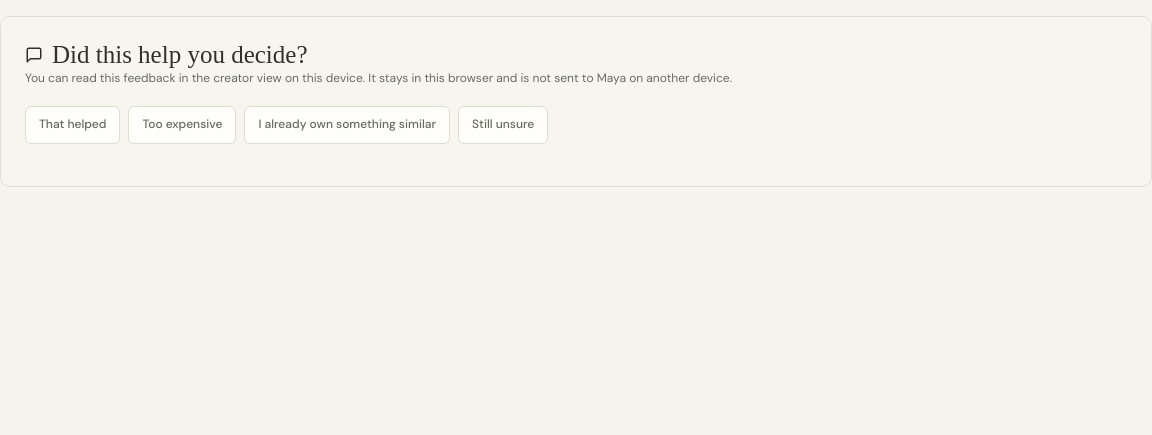
it: local follower feedback › preserves wording and reports a save error honestly
This screenshot has width=1152, height=435.
Click the button "Still unsure".
click(503, 125)  # box [458,106,548,144]
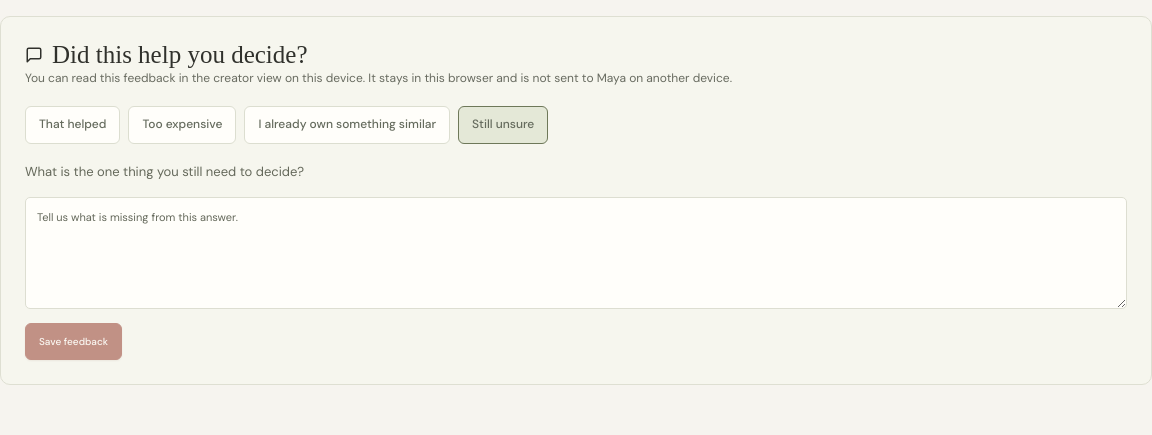
Type "Can I use it under makeup?" into the text box labelled "What is the one thing you still need to decide?".
click(576, 253); type("Can I use it under makeup?")  # box [25,197,1127,309]
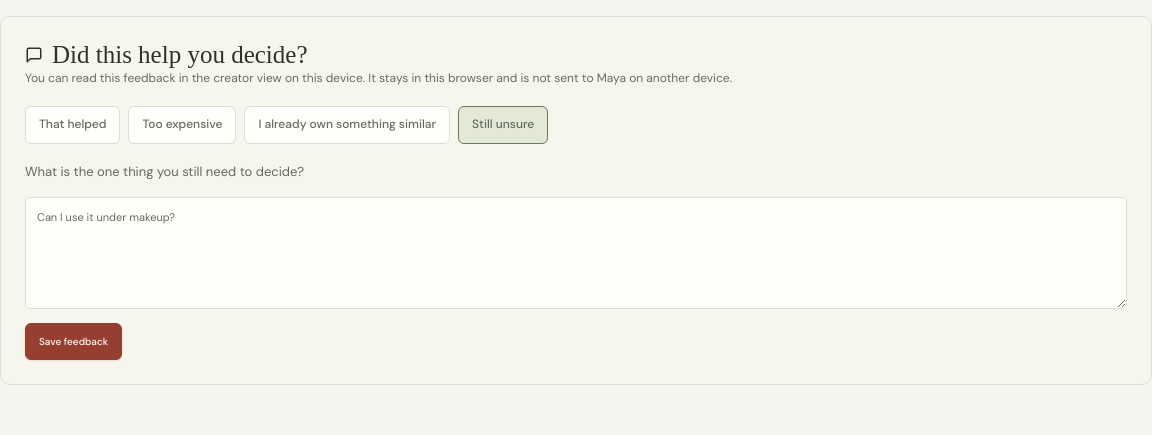
Click the button "Save feedback".
click(74, 341)  # box [25,323,122,360]
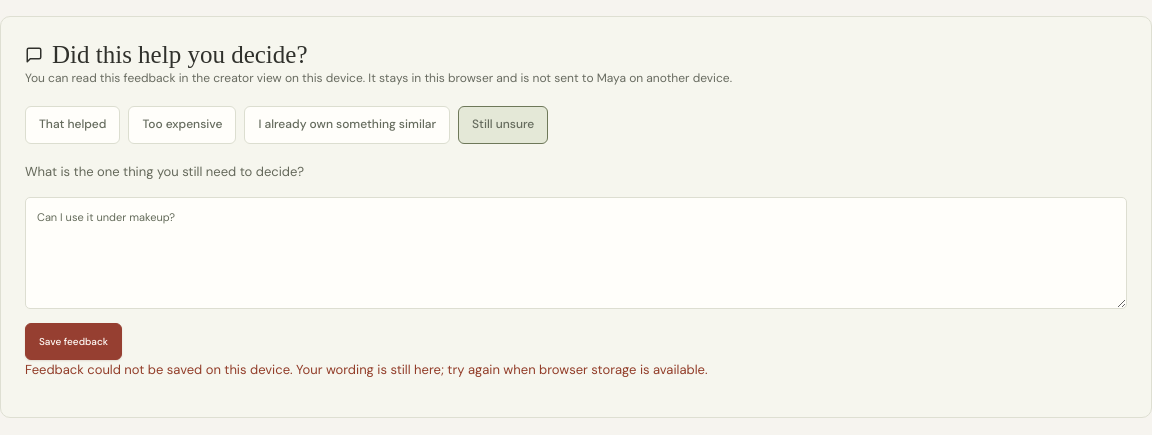
Now the message shows "could not be saved", box [25,361,708,378]
